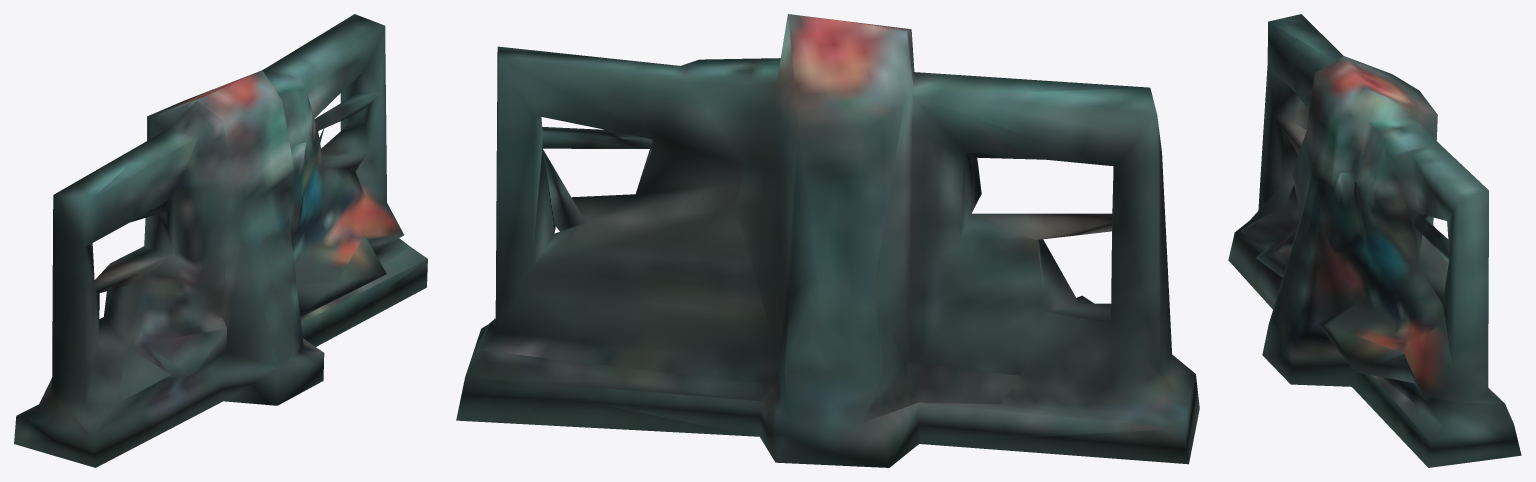
Rendered from Pared_Derecha_Chiquita.glb.
3 renders of one model, left to right at view 1: azimuth 30°, elevation 25°; view 2: azimuth 150°, elevation 25°; view 3: azimuth 270°, elevation 25°, orthographic. The views are drawn at different scales.
Visible parts, largest first — view 1: Pared Derecha Chiquita; view 2: Pared Derecha Chiquita; view 3: Pared Derecha Chiquita.
Part boxes in pixels (x1,y1,x2,y2): Pared Derecha Chiquita: [14, 14, 427, 467]; Pared Derecha Chiquita: [456, 14, 1199, 467]; Pared Derecha Chiquita: [1228, 14, 1521, 467].
Size of the model in its own units: 0.1003 by 0.0587 by 0.0548.
Materials: 1 (1 with a texture image).
